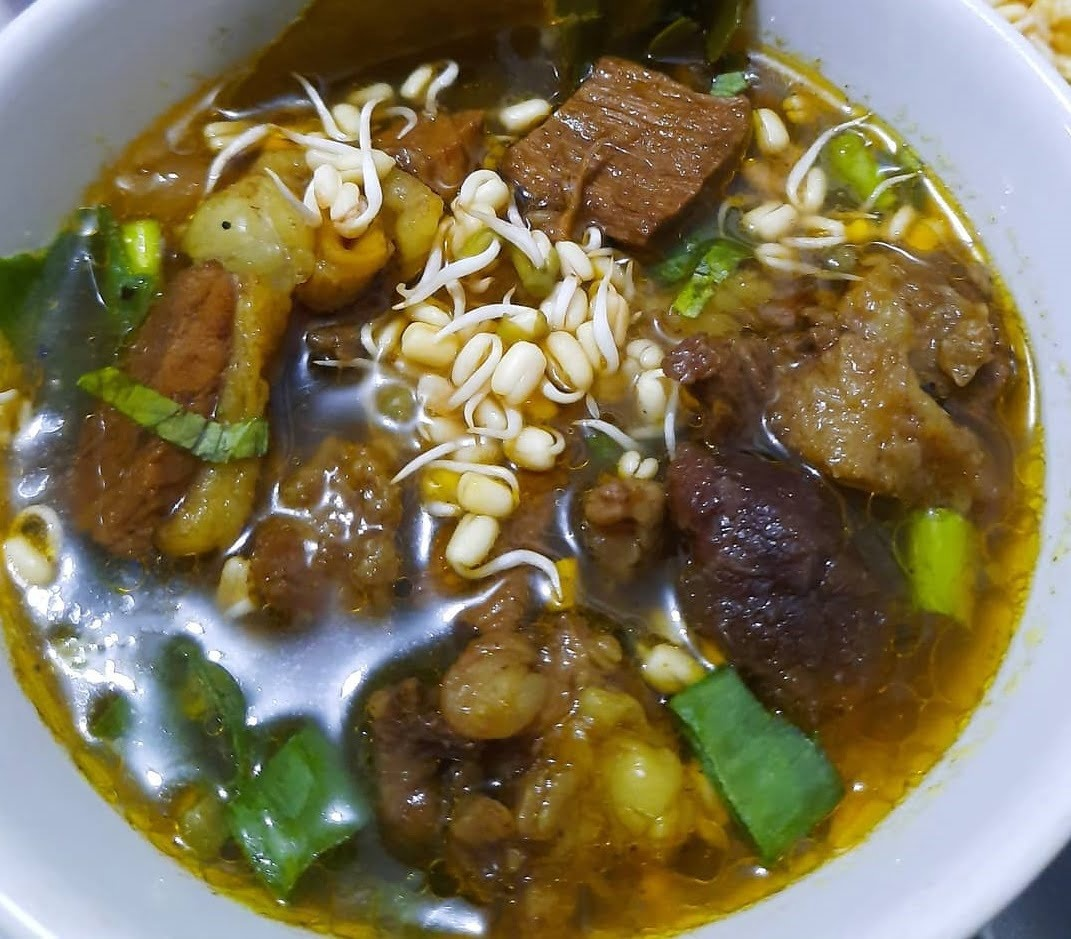rawon: (63, 60, 979, 835)
